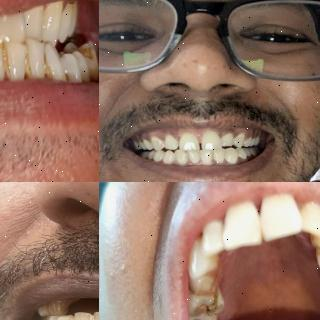calculus: (200, 265, 227, 293), (0, 49, 16, 83), (20, 51, 36, 81), (42, 54, 56, 84), (307, 231, 320, 253), (313, 244, 320, 266), (71, 314, 95, 320)
cavities: (190, 298, 227, 317)
maligned: (3, 39, 31, 77), (24, 35, 48, 74), (40, 42, 66, 76), (0, 8, 24, 44), (22, 3, 44, 42)
plaque: (185, 152, 192, 160), (211, 152, 217, 160)
